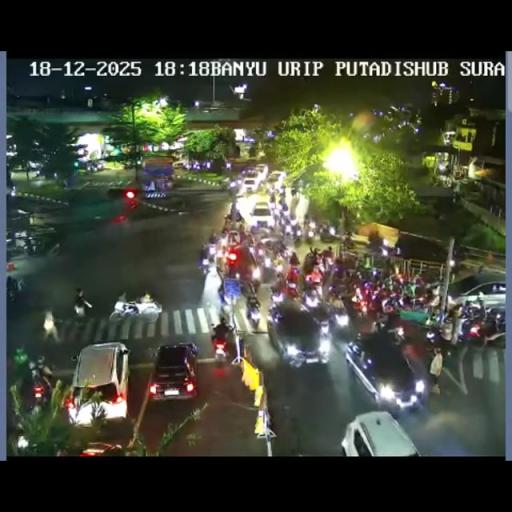Car: (346, 329, 428, 411), (68, 342, 130, 426), (264, 300, 333, 367), (342, 411, 422, 455), (148, 342, 199, 402), (445, 280, 504, 316), (220, 241, 260, 294), (238, 163, 268, 192), (249, 201, 274, 227), (76, 442, 122, 455), (107, 182, 140, 199), (224, 229, 242, 249), (266, 170, 286, 184), (26, 160, 44, 172), (172, 160, 189, 169)
Motorcycle: (384, 287, 435, 316), (348, 280, 382, 315), (28, 368, 52, 408), (325, 296, 350, 334), (210, 326, 233, 362), (109, 298, 141, 322), (423, 317, 449, 345), (258, 251, 280, 284), (444, 303, 462, 343), (327, 274, 351, 302), (244, 292, 262, 329), (366, 236, 396, 258), (136, 292, 159, 318), (41, 308, 59, 341), (24, 235, 50, 256), (304, 274, 324, 300), (269, 278, 288, 305), (385, 323, 406, 346), (73, 298, 93, 322), (303, 248, 320, 274), (318, 223, 338, 244), (382, 274, 404, 293), (284, 219, 302, 240), (199, 251, 214, 276), (374, 309, 390, 332), (6, 275, 18, 302), (46, 240, 62, 258), (341, 230, 354, 252), (284, 281, 299, 300), (218, 277, 228, 304), (427, 289, 441, 308), (304, 226, 316, 246), (368, 266, 382, 282), (222, 214, 234, 232), (322, 254, 334, 270), (251, 266, 262, 282), (412, 274, 425, 287), (162, 176, 174, 190), (276, 182, 286, 198), (207, 242, 217, 258), (220, 177, 230, 191), (279, 197, 288, 212), (233, 210, 242, 222), (290, 184, 298, 197)
